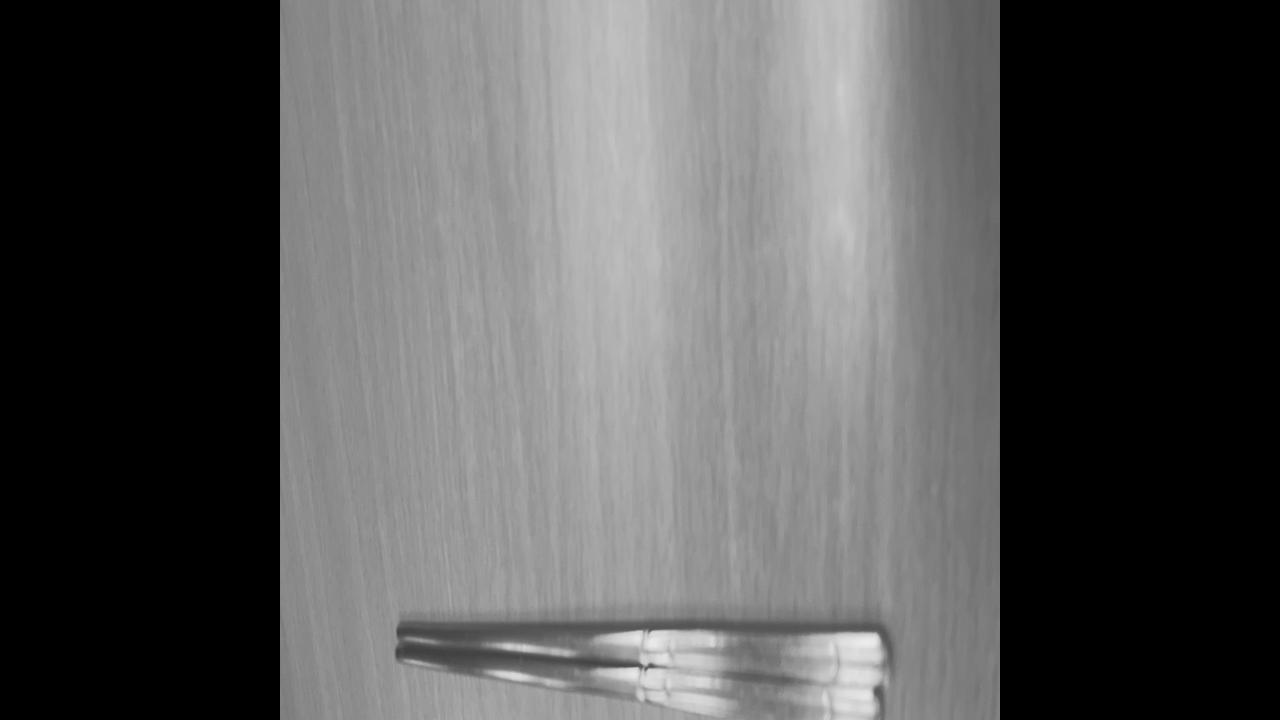chopstick: (397, 631, 883, 720)
